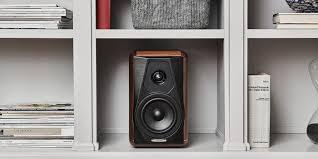book: (250, 75, 270, 147), (274, 14, 318, 28)
file: (1, 103, 74, 138), (1, 4, 72, 30)
speaker: (129, 51, 190, 147)
